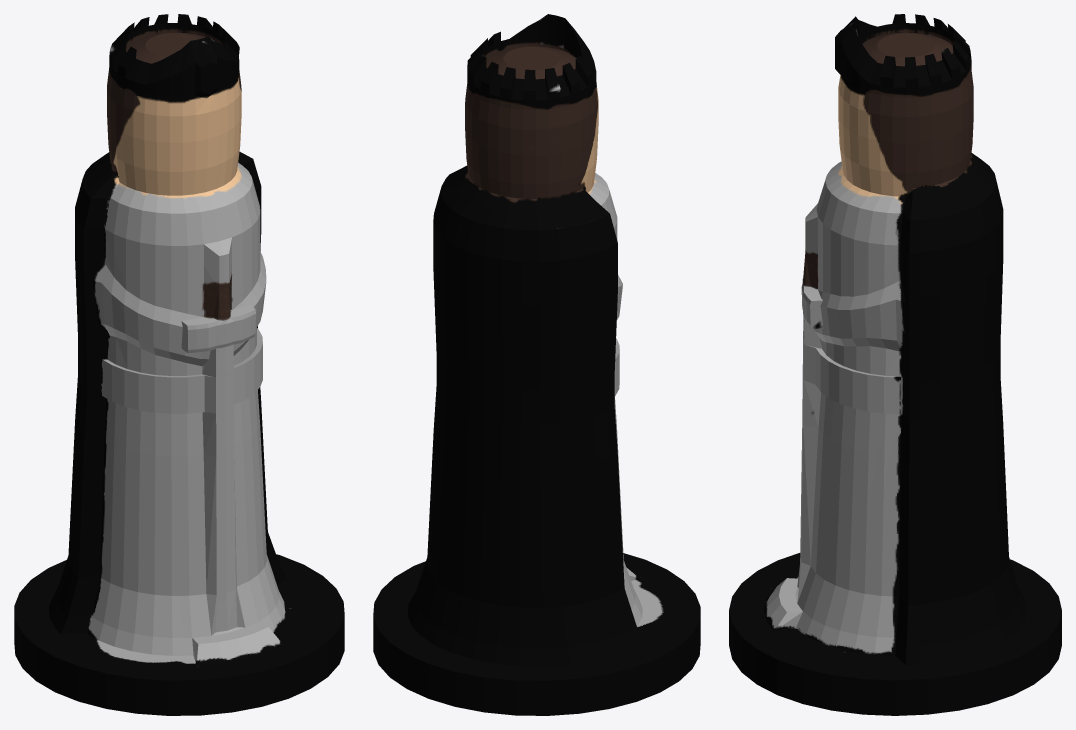
The model's file is aragorn.fbx.
3 renders of one model, left to right at view 1: azimuth 30°, elevation 25°; view 2: azimuth 150°, elevation 25°; view 3: azimuth 270°, elevation 25°, orthographic.
Parts seen in each view (by area): view 1: node_id5; view 2: node_id5; view 3: node_id5.
Part boxes in pixels (x1,y1,x2,y2): node_id5: (14,14,344,715); node_id5: (373,14,700,715); node_id5: (729,14,1061,715).
Size of the model in its own units: 0.2472 by 0.512 by 0.2472.
1 material, 1 textured.
